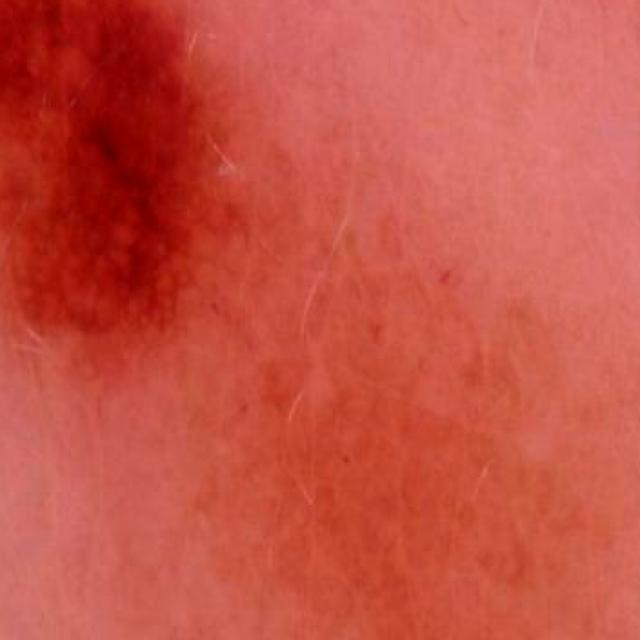NV: (0, 0, 400, 575)
